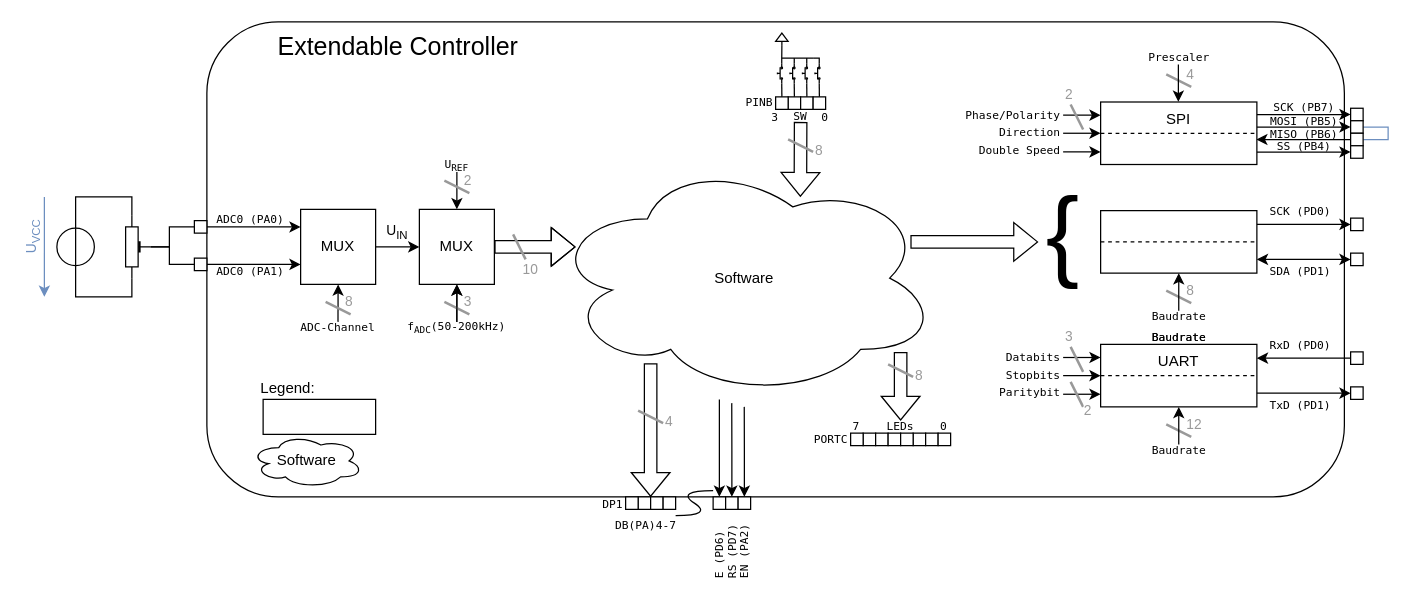
This 1411x604 diagram has some shape labels left out. Here are the shapes that lost their labels. From the top down, the box of each, then its label:
(124, 214, 151, 278): R ADC
(1099, 209, 1257, 273): TWI
(262, 398, 376, 434): Hardware
